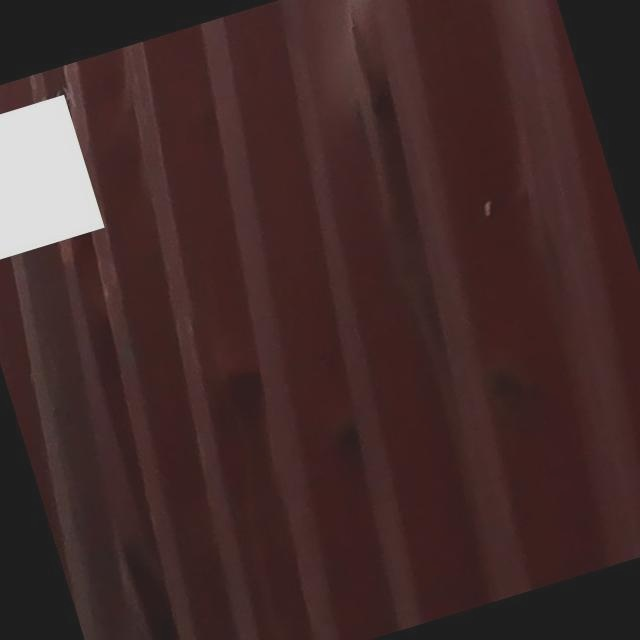Dent: (25, 408, 236, 640)
